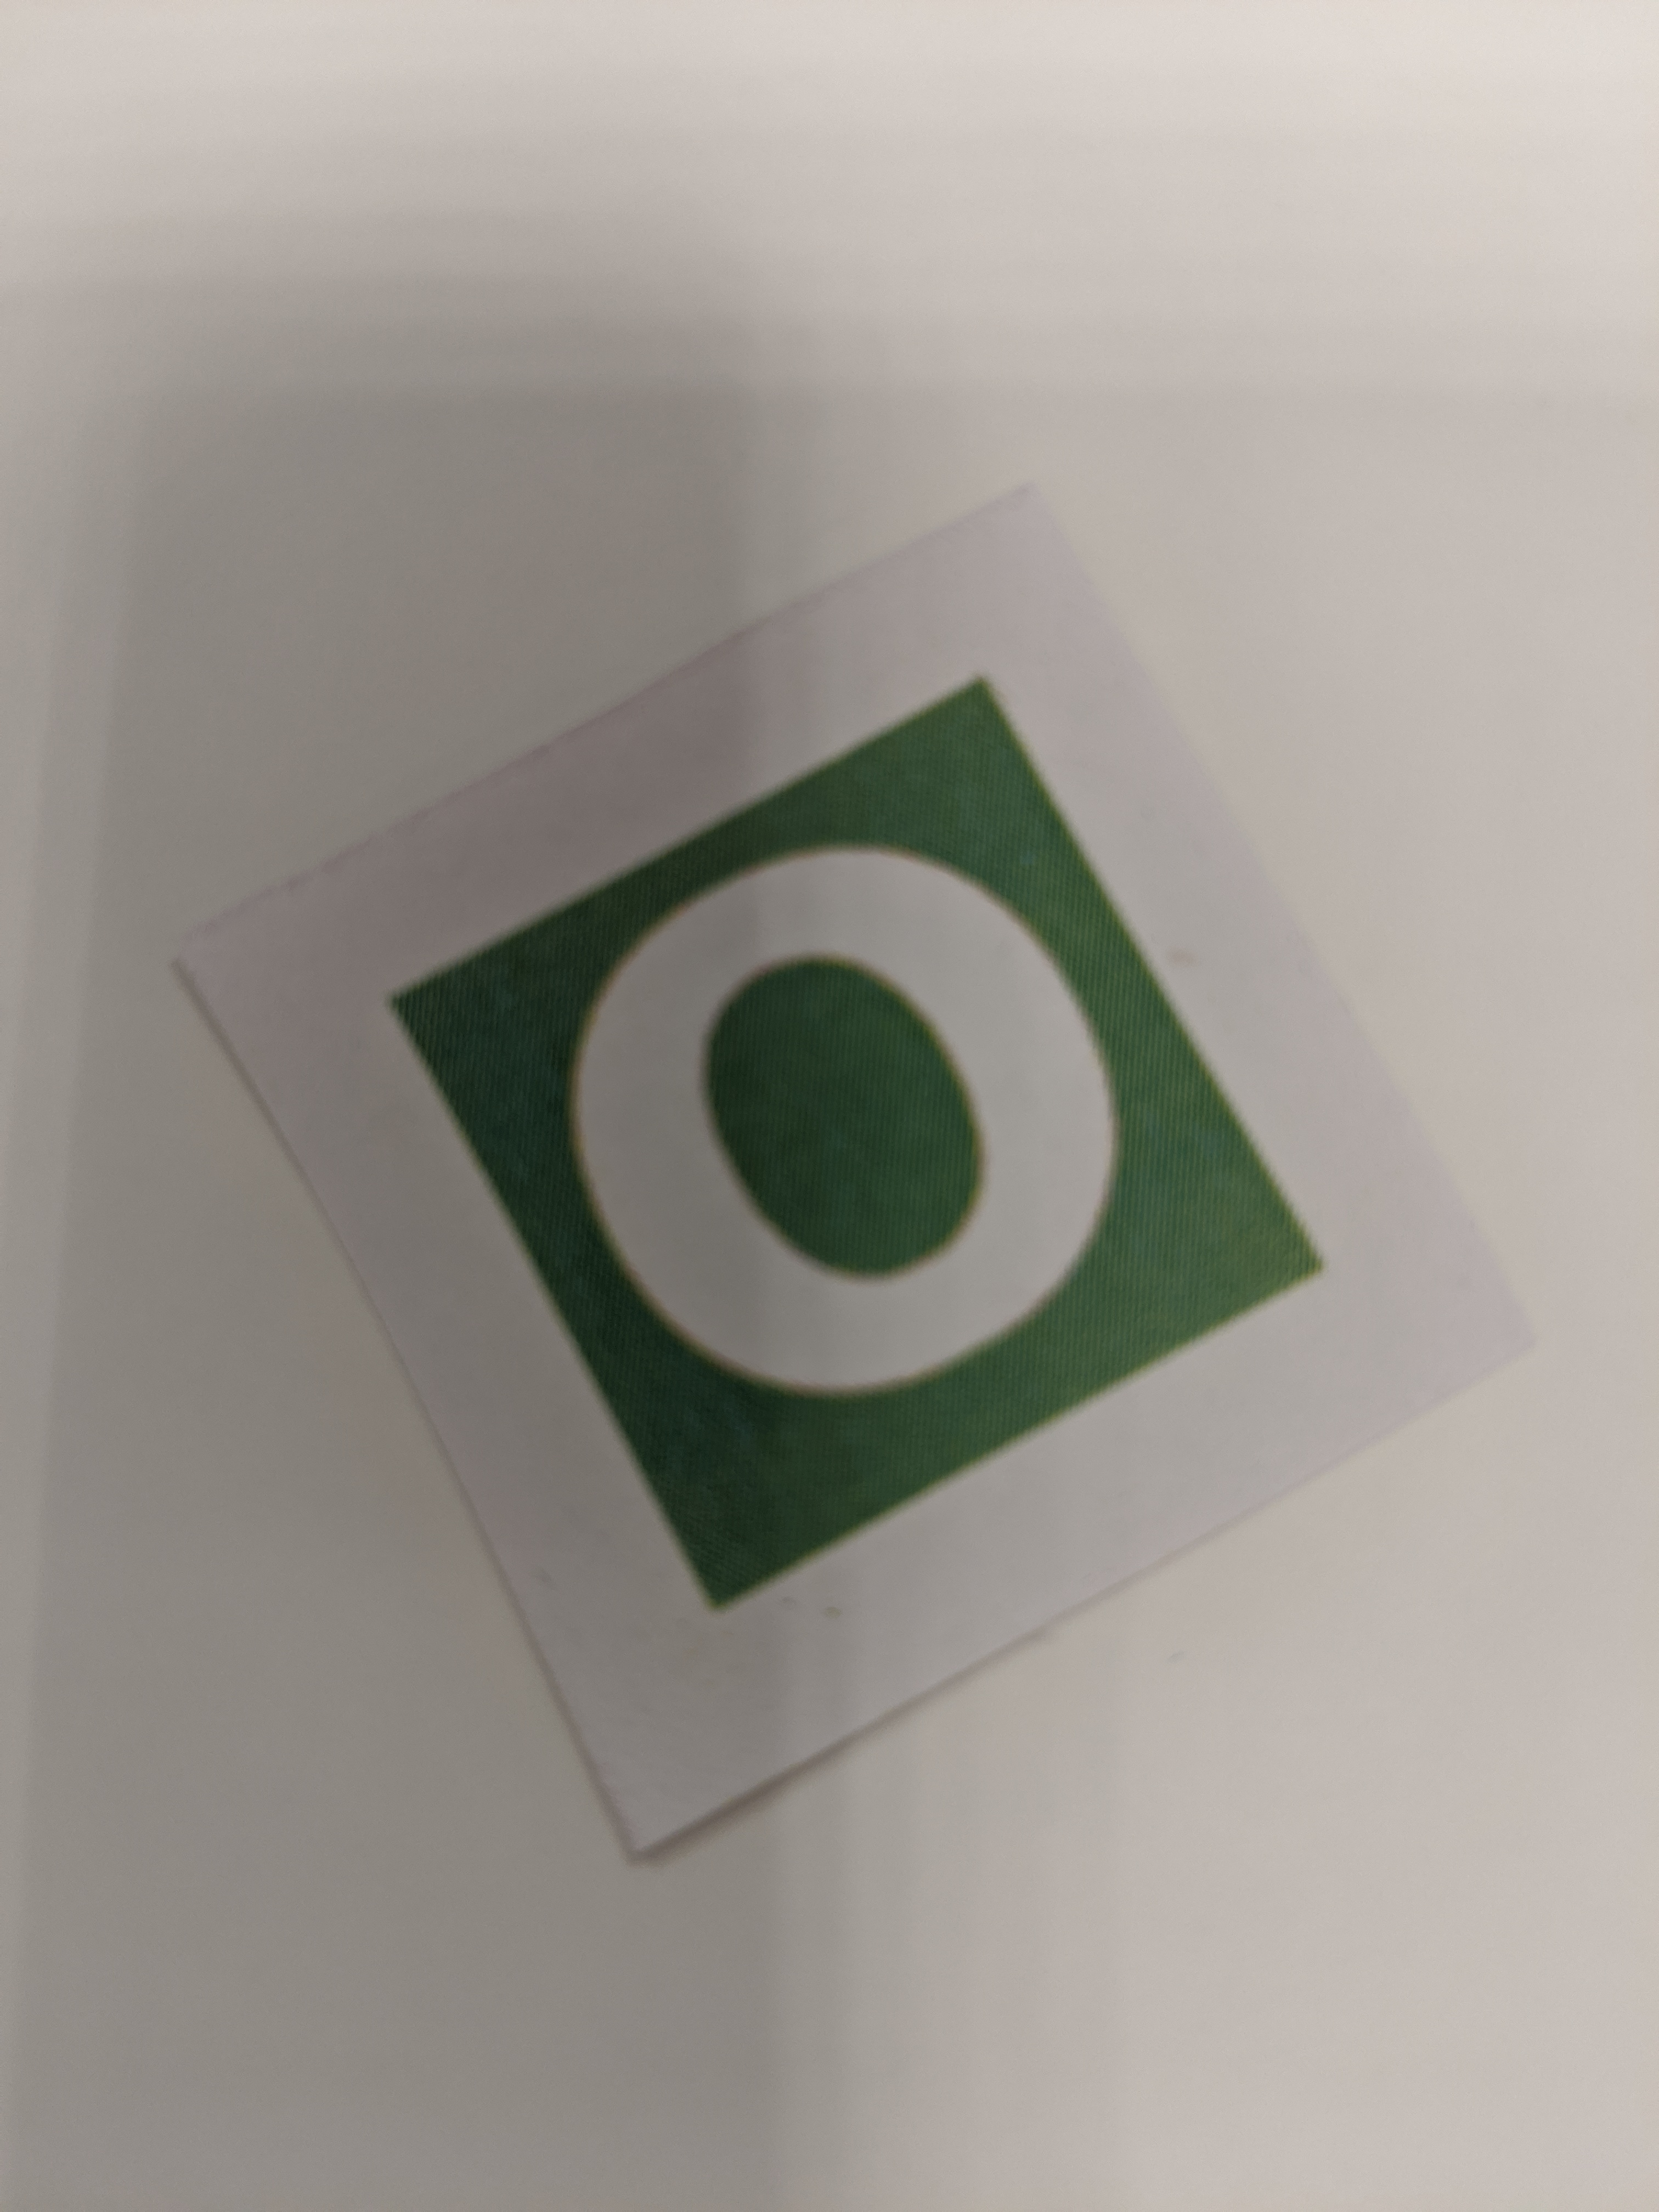green marker: (167, 472, 1539, 1871)
